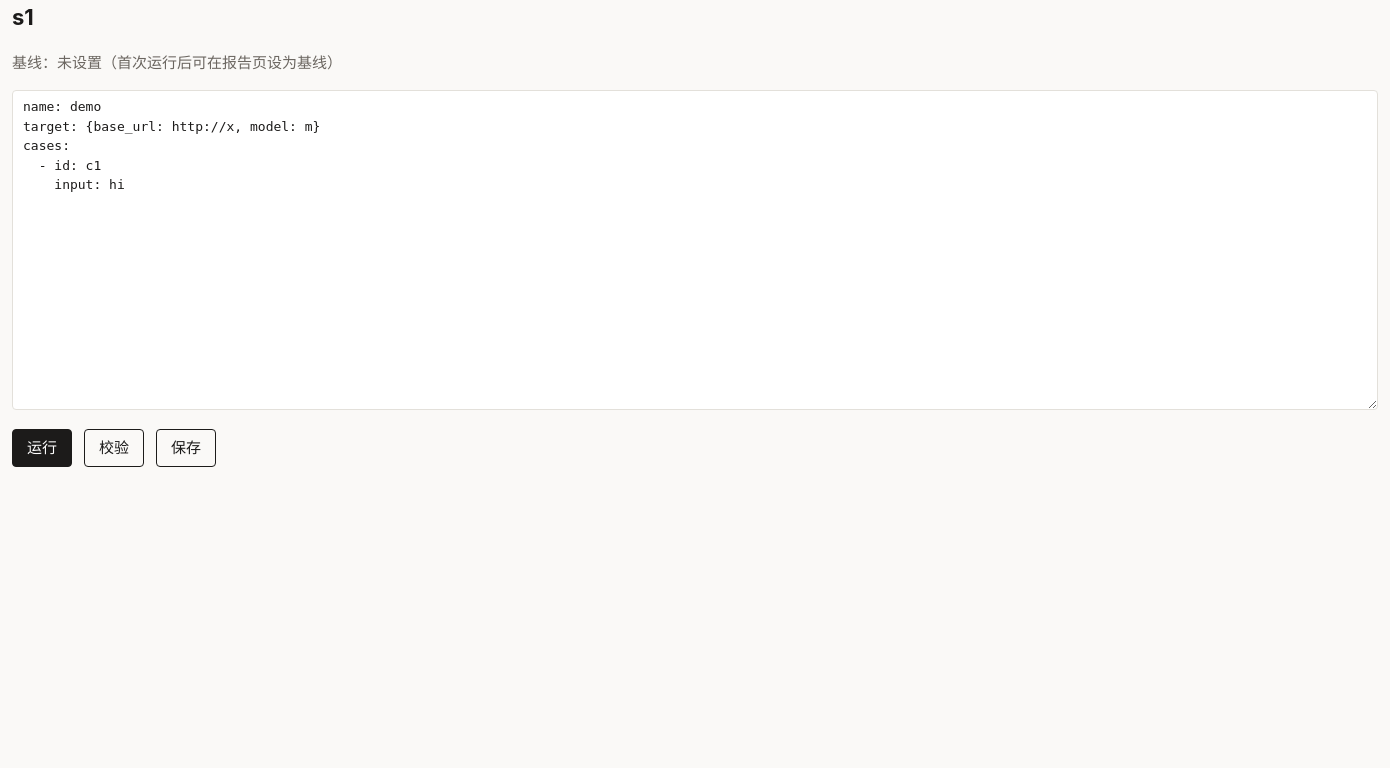
Test: SuiteEditorPage › validate shows parsed case preview
This screenshot has width=1390, height=768.
Expected: the text box is shown, x1=12 y1=90 x2=1378 y2=410
Click the button "校验" at [114, 448], box x1=84 y1=429 x2=144 y2=467
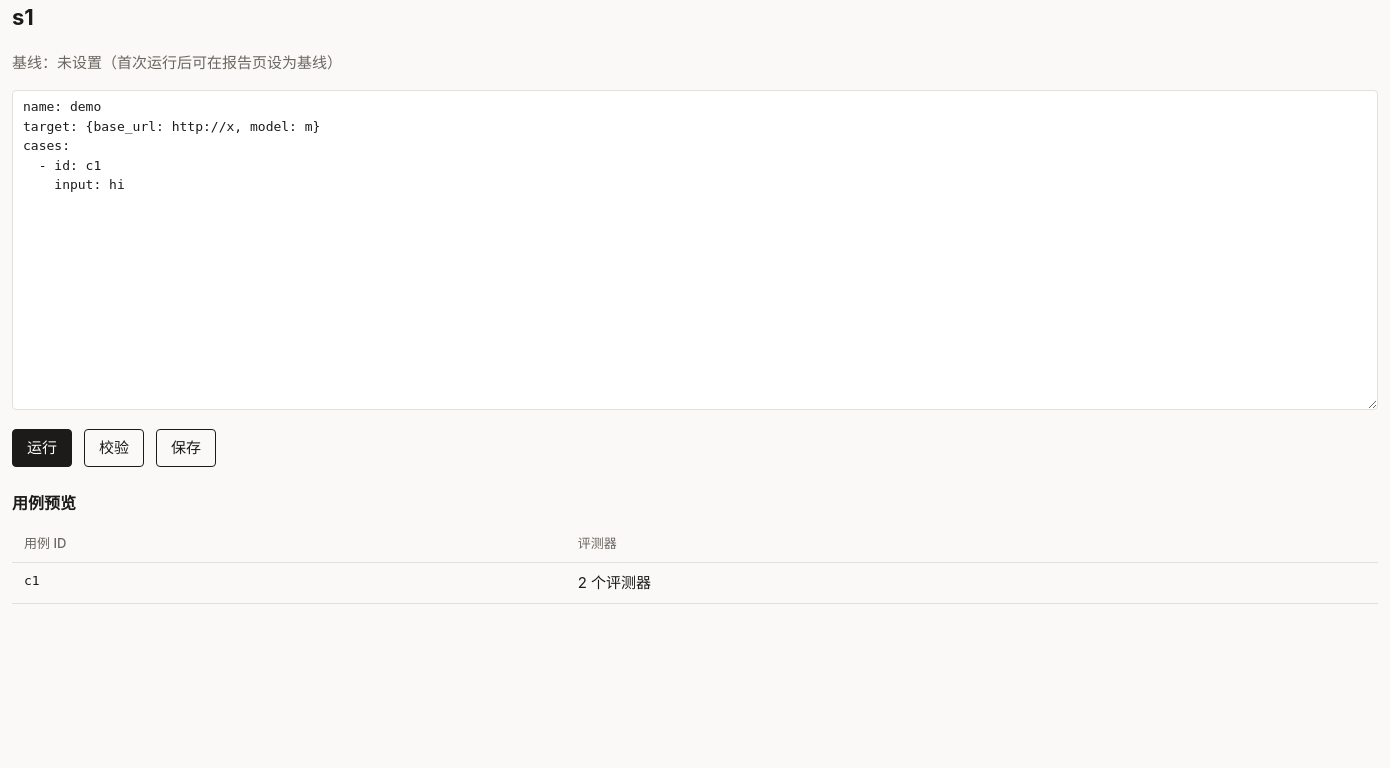
Result: the text "c1" is shown at x1=12 y1=562 x2=566 y2=603
Result: the text "2 个评测器" is shown at x1=566 y1=562 x2=1378 y2=603
